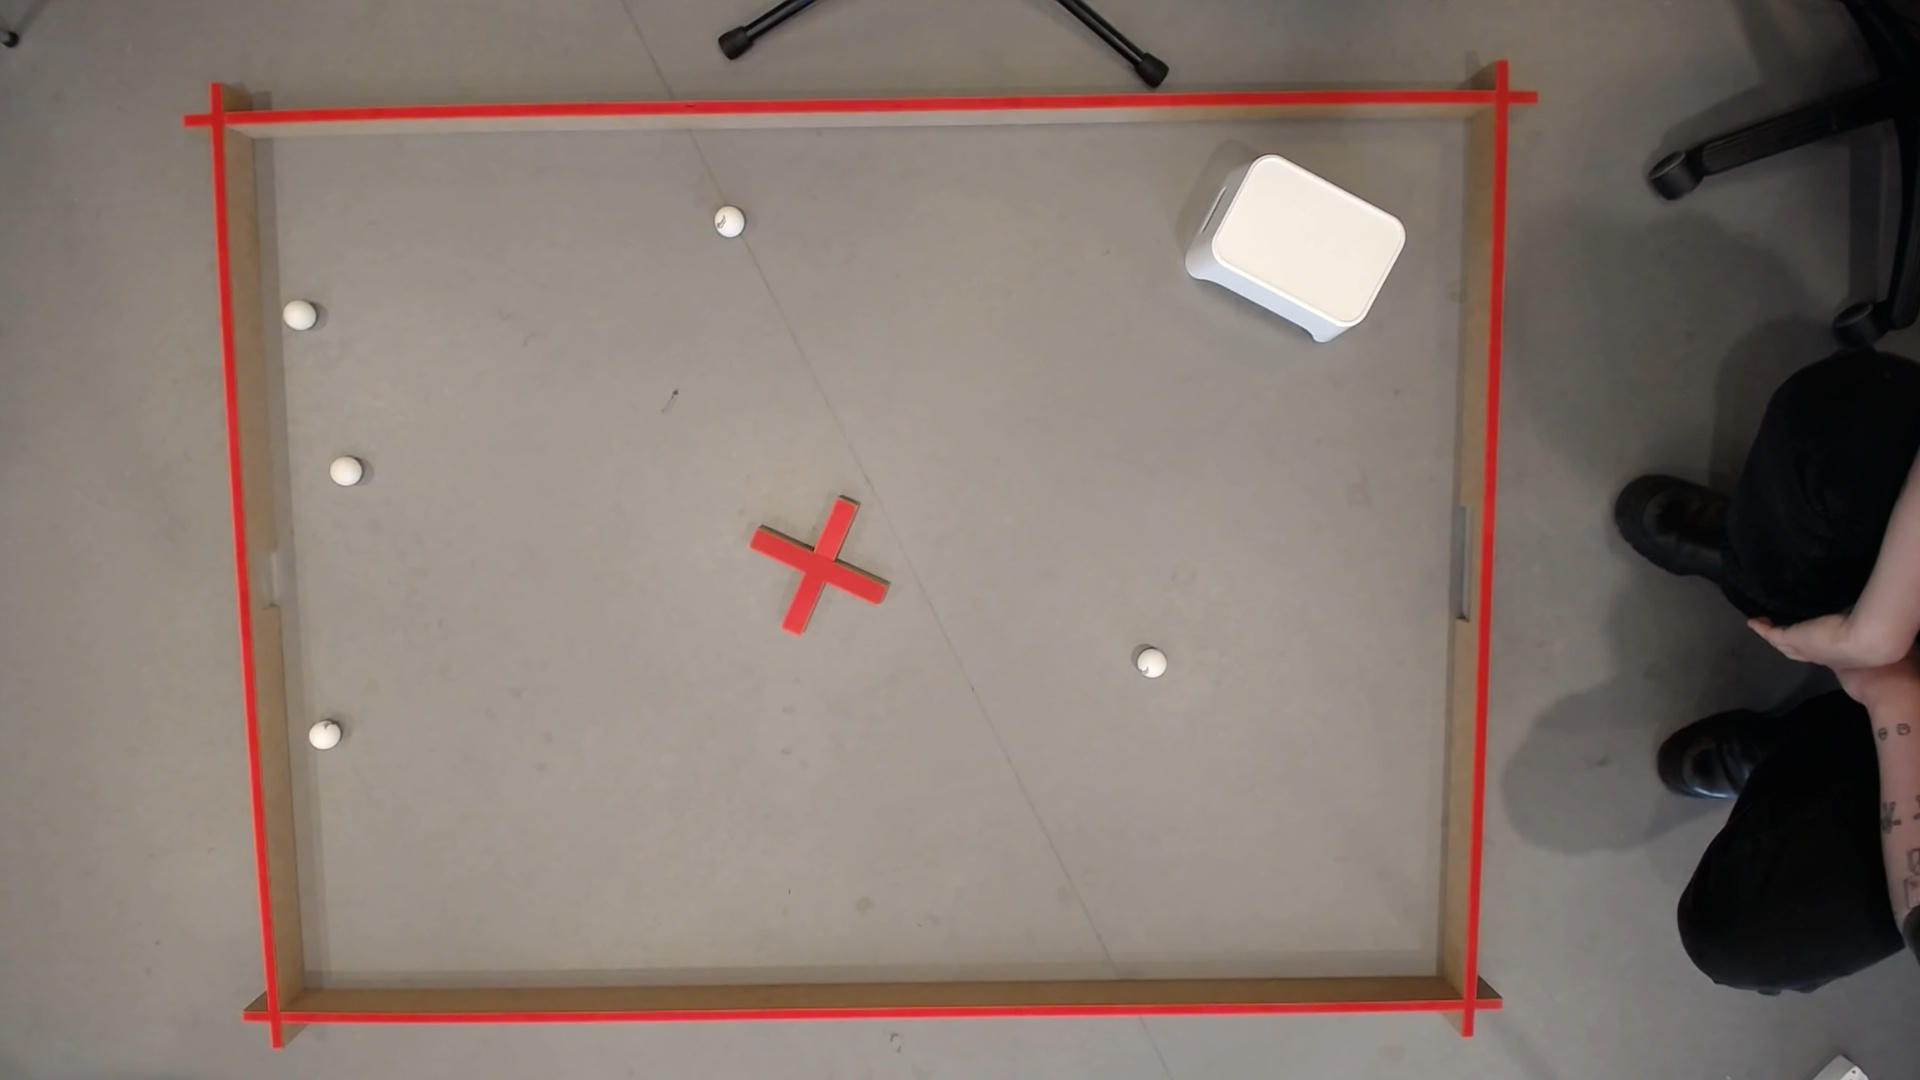balls: (1185, 142, 1412, 356), (324, 452, 364, 491), (709, 202, 748, 241), (278, 295, 316, 334), (1133, 645, 1170, 682), (309, 723, 340, 749)
car: (1859, 618, 1882, 641)
